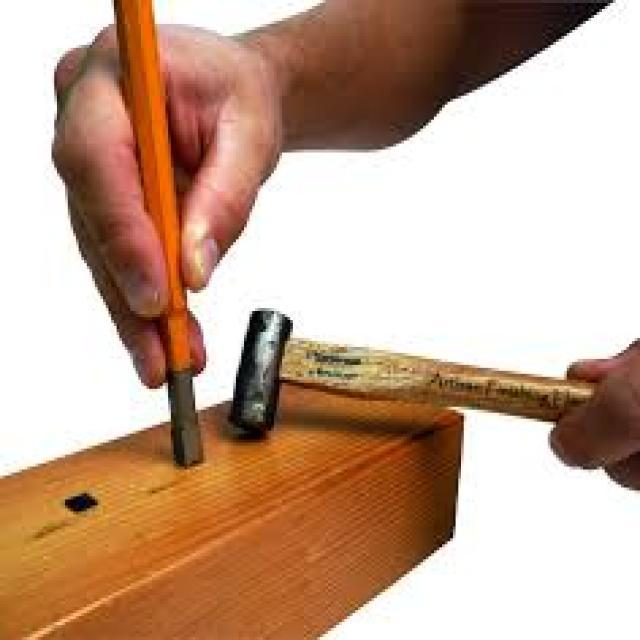Palu: (240, 294, 558, 463)
